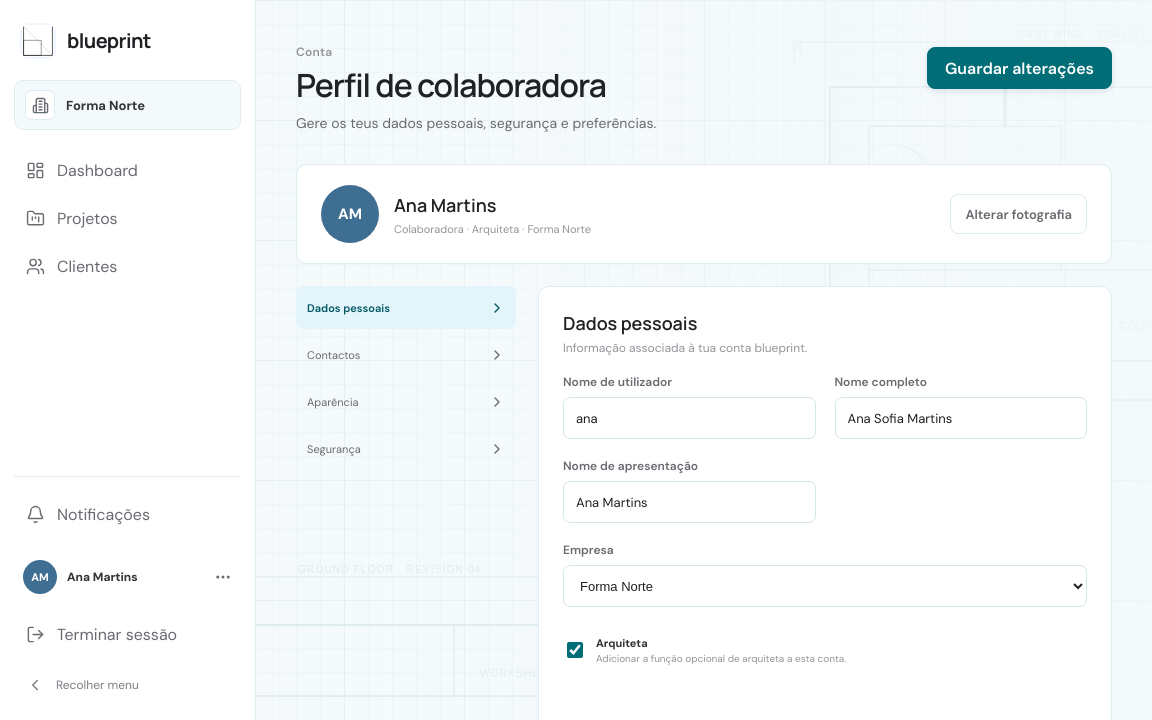
Test: editable profile › loads and saves employee data, associations, and navigation identity
expect the field showing "Ana Sofia Martins" is shown: met, box [834,397,1087,439]
expect the text "Mock" is not shown: met
Replace the text in the field labelled "Nome de apresentação" with "Ana Costa" at point(689, 502), box [563,481,816,523]
Select "Atelier Sul" in the dropdown labelled "Empresa" at point(825, 586), box [563,565,1087,607]
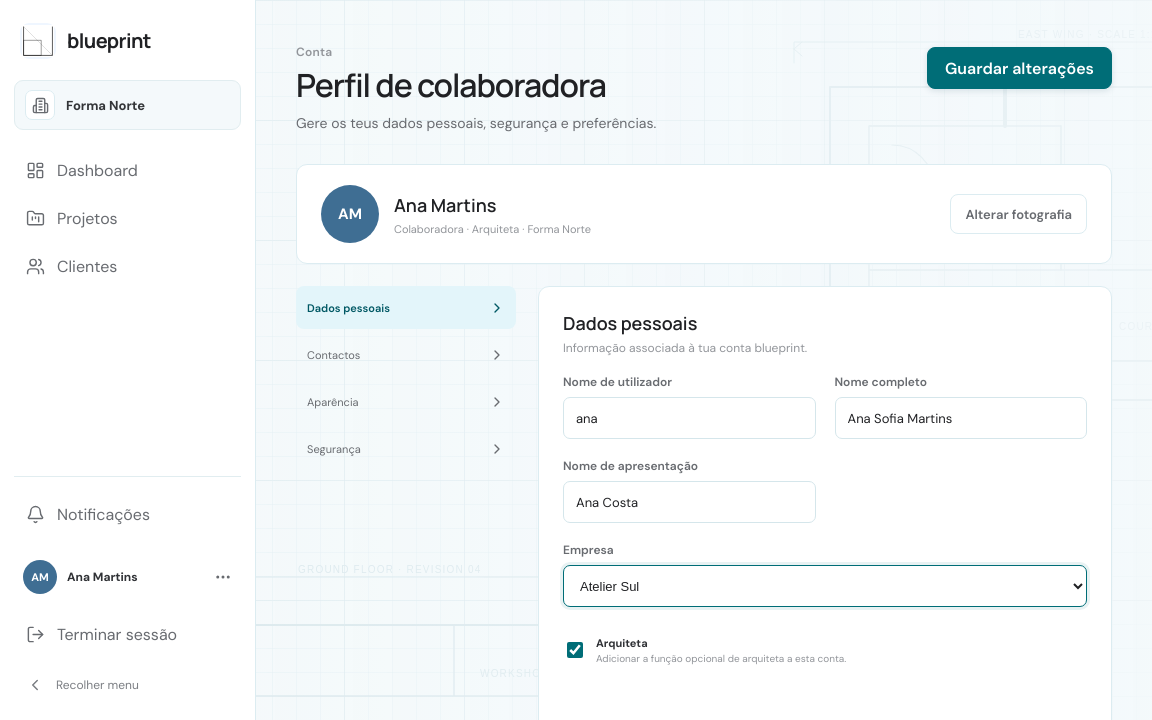
Click the checkbox labelled "Arquiteta".
click(575, 650)  # box [567,642,583,658]
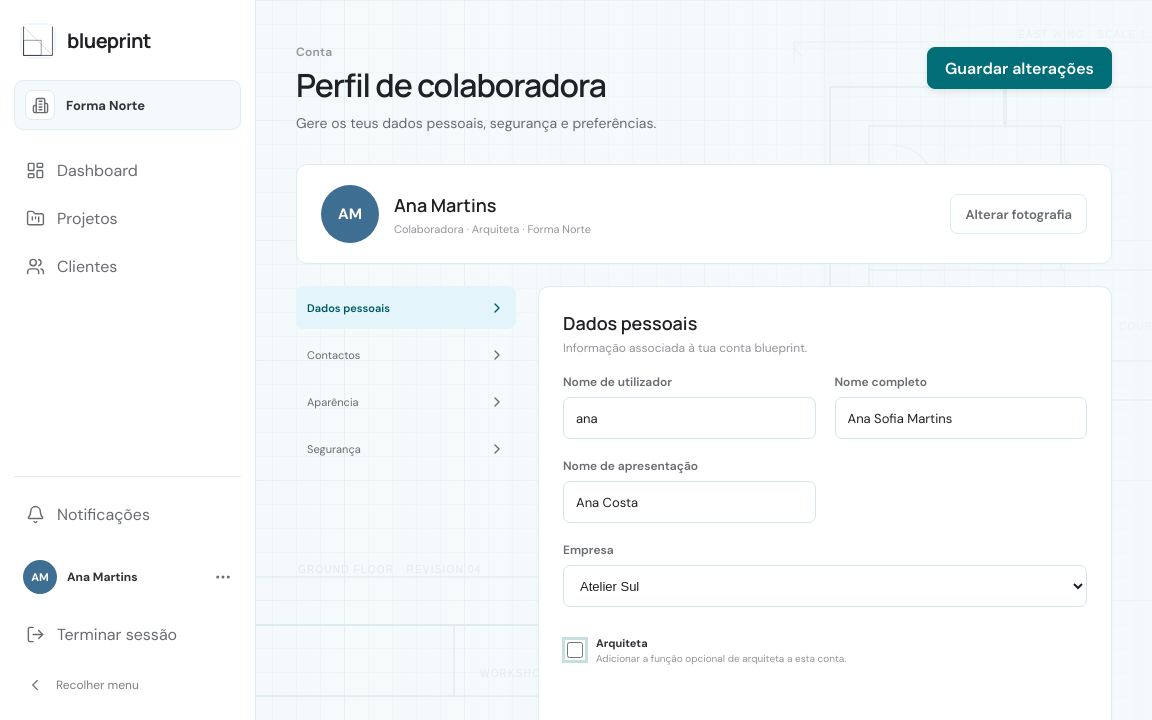
Click the button "Contactos".
click(406, 354)  # box [296,333,516,376]
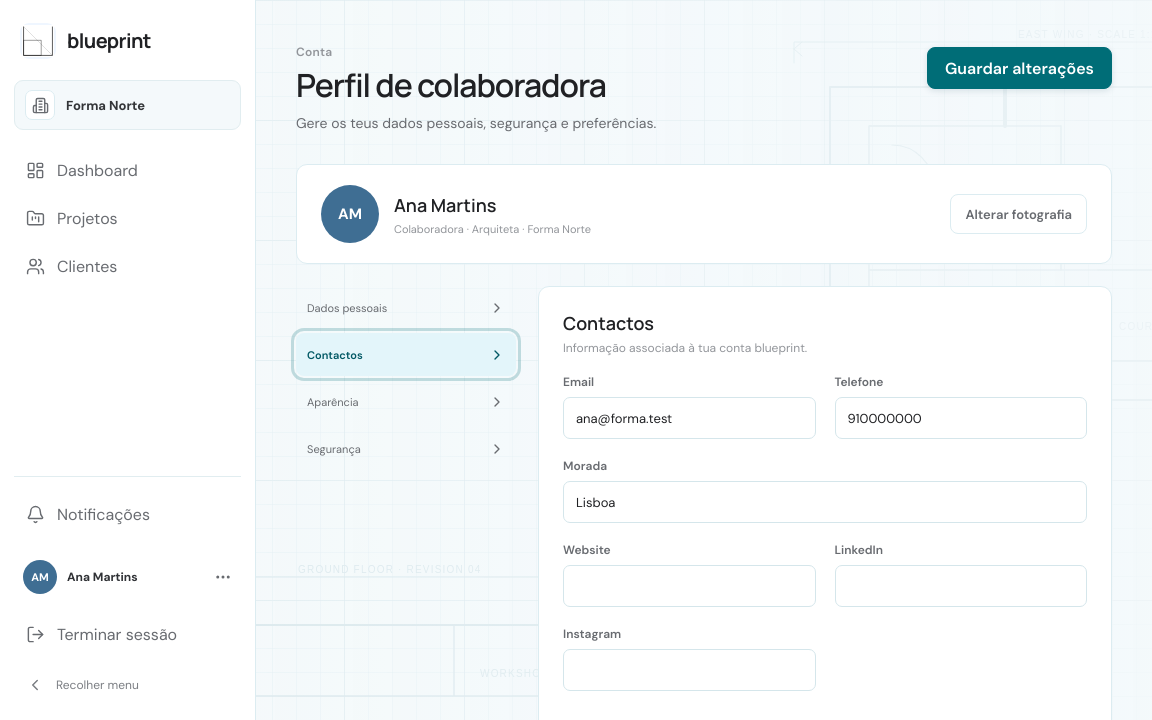
Replace the text in the field labelled "Email" with "ana.costa@example.test" at point(689, 418), box [563,397,816,439]
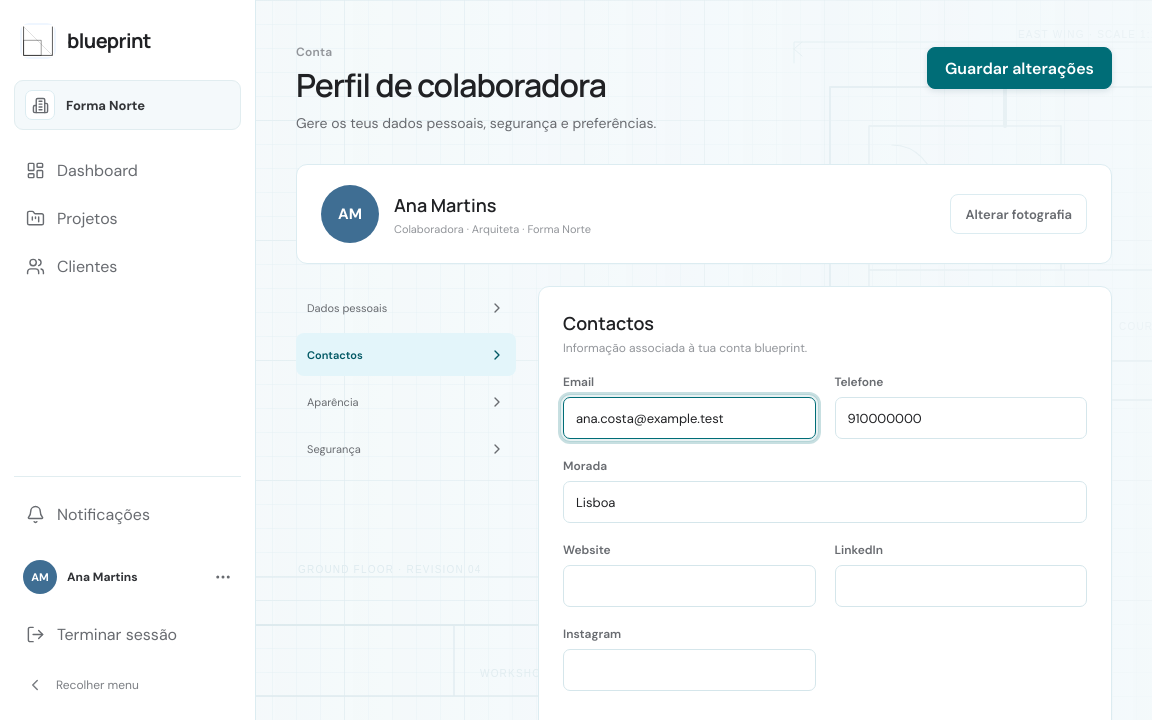
Type "https://mock.example" into the field labelled "Website".
click(689, 586); type("https://mock.example")  # box [563,565,816,607]
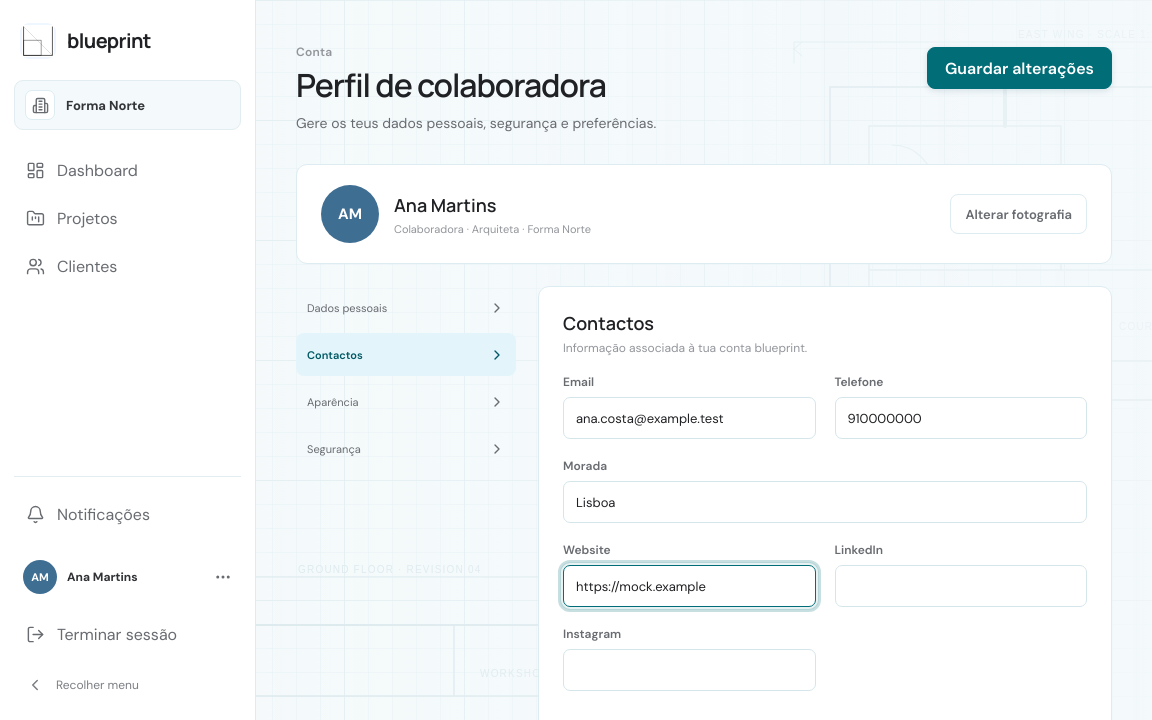
Click the button "Guardar alterações".
click(1020, 68)  # box [927,47,1112,89]
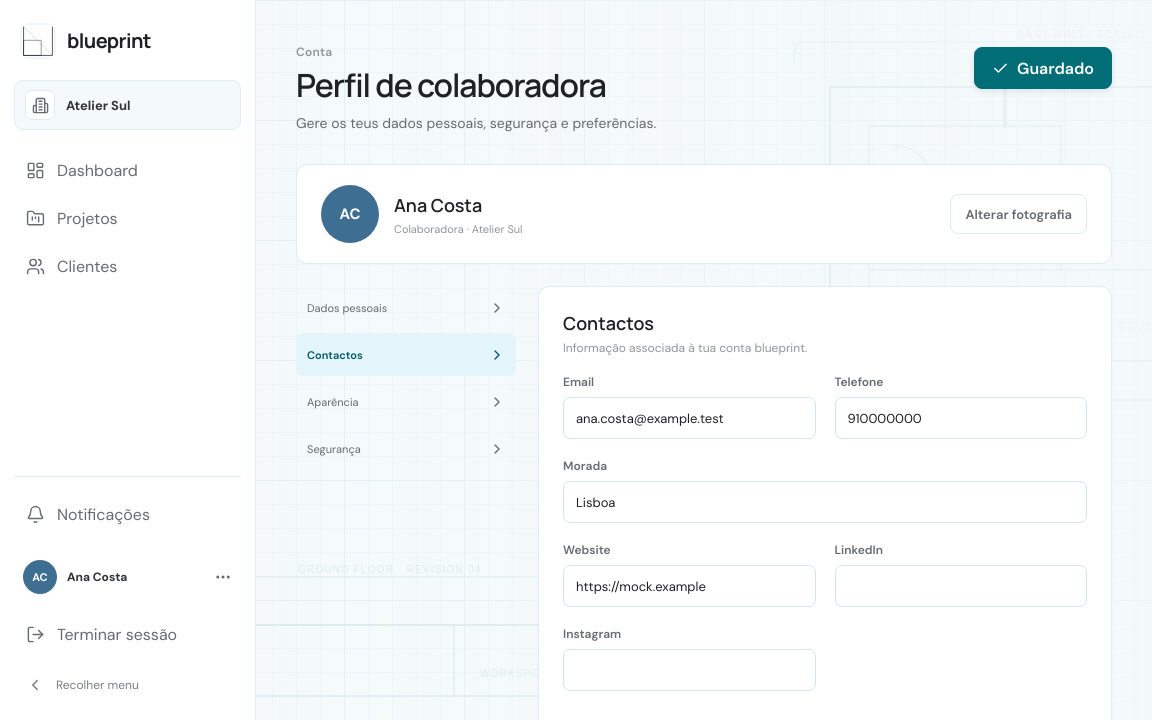
expect the button "Guardado" is shown: met, box [974,47,1112,89]
expect the button "AC Ana Costa" is shown: met, box [14,548,241,606]
